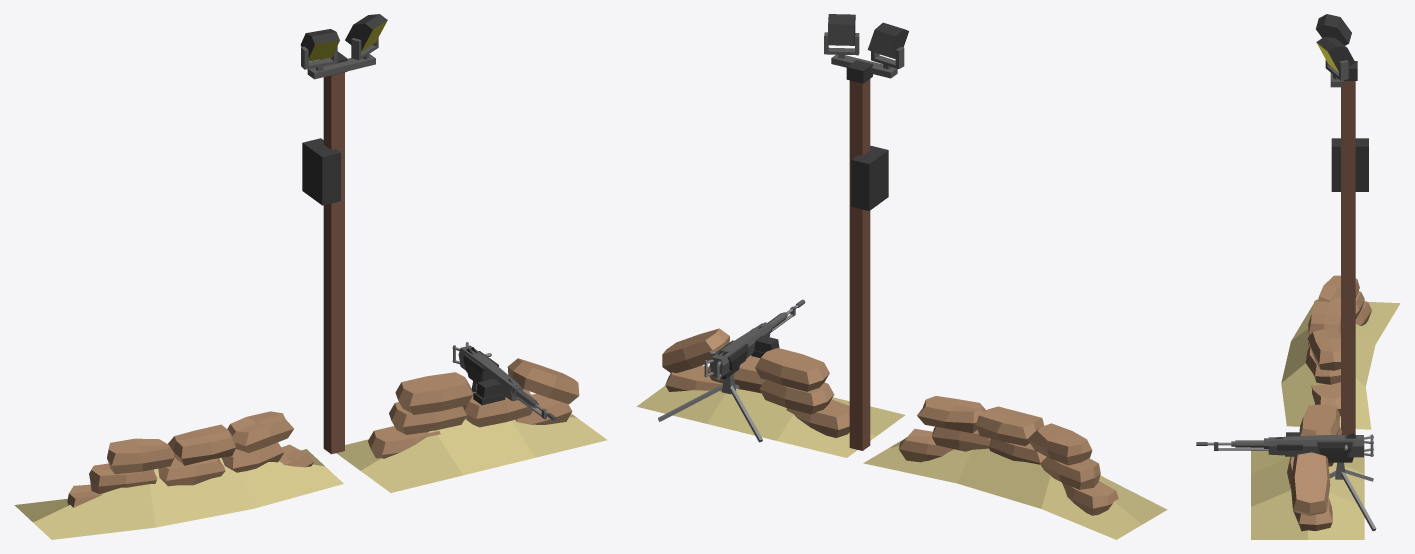
Rendered from sandbags.glb.
3 renders of one model, left to right at view 1: azimuth 30°, elevation 25°; view 2: azimuth 150°, elevation 25°; view 3: azimuth 270°, elevation 25°, orthographic. The views are drawn at different scales.
Visible parts, largest first — view 1: Plane, Cube.013, Cube; view 2: Plane, Cube.013, Cube; view 3: Cube.013, Plane, Cube.
Boxes of the visible parts, x1,y1,x2,y2 form: Plane: (14,411,343,539); Cube.013: (336,342,607,492); Cube: (300,14,387,454); Plane: (863,396,1167,539); Cube.013: (636,299,905,457); Cube: (824,14,908,450); Cube.013: (1196,404,1376,539); Plane: (1281,275,1400,429); Cube: (1316,14,1368,434).
Size of the model in its own units: 11.29 by 9.15 by 4.09.
